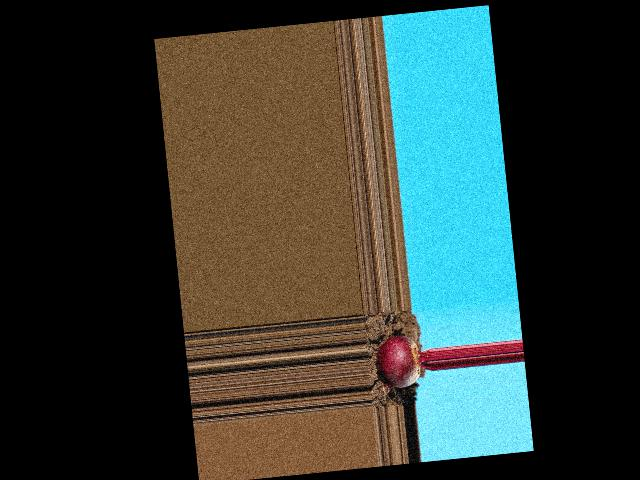beet: (374, 332, 433, 390)
